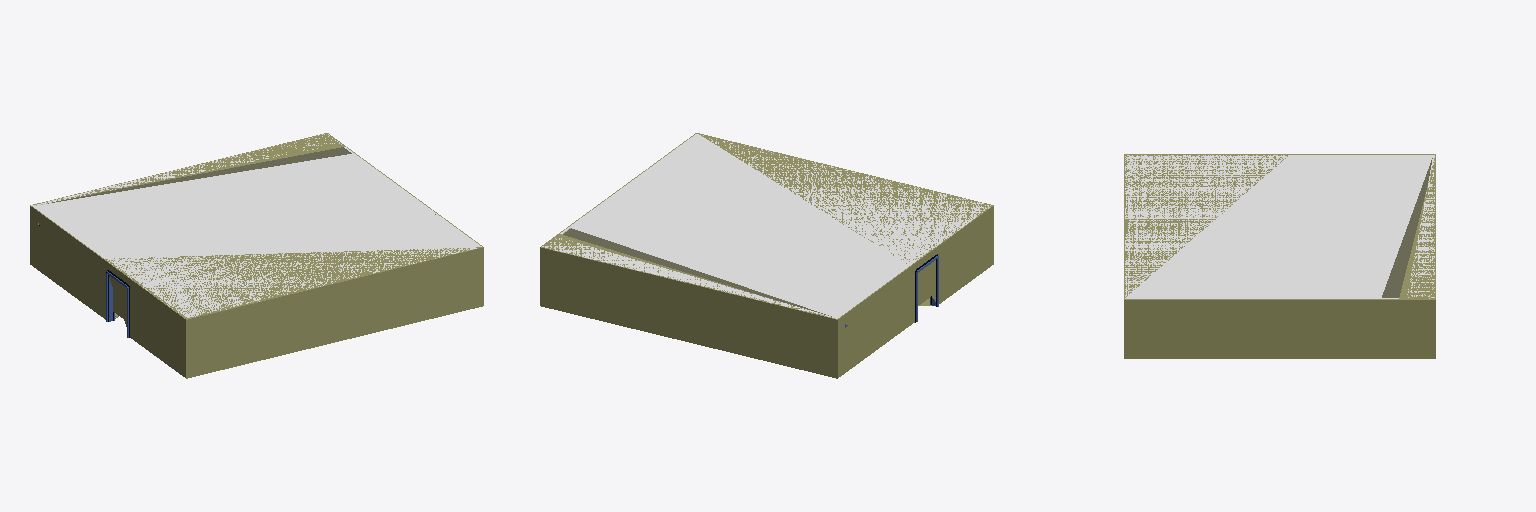
Rendered from ProfHouse.obj.
3 renders of one model, left to right at view 1: azimuth 30°, elevation 25°; view 2: azimuth 150°, elevation 25°; view 3: azimuth 270°, elevation 25°, orthographic.
Parts seen in each view (by area): view 1: LittlerrootWallUmrissPROF.003_LittlerrootWallUmrissPROF.015; view 2: LittlerrootWallUmrissPROF.003_LittlerrootWallUmrissPROF.015; view 3: LittlerrootWallUmrissPROF.003_LittlerrootWallUmrissPROF.015.
Boxes of the visible parts, <box> form: LittlerrootWallUmrissPROF.003_LittlerrootWallUmrissPROF.015: <box>30,133,483,378</box>; LittlerrootWallUmrissPROF.003_LittlerrootWallUmrissPROF.015: <box>540,133,993,378</box>; LittlerrootWallUmrissPROF.003_LittlerrootWallUmrissPROF.015: <box>1124,154,1435,358</box>.
Bounding box in the file's own units: 19.62 × 3.69 × 17.75.